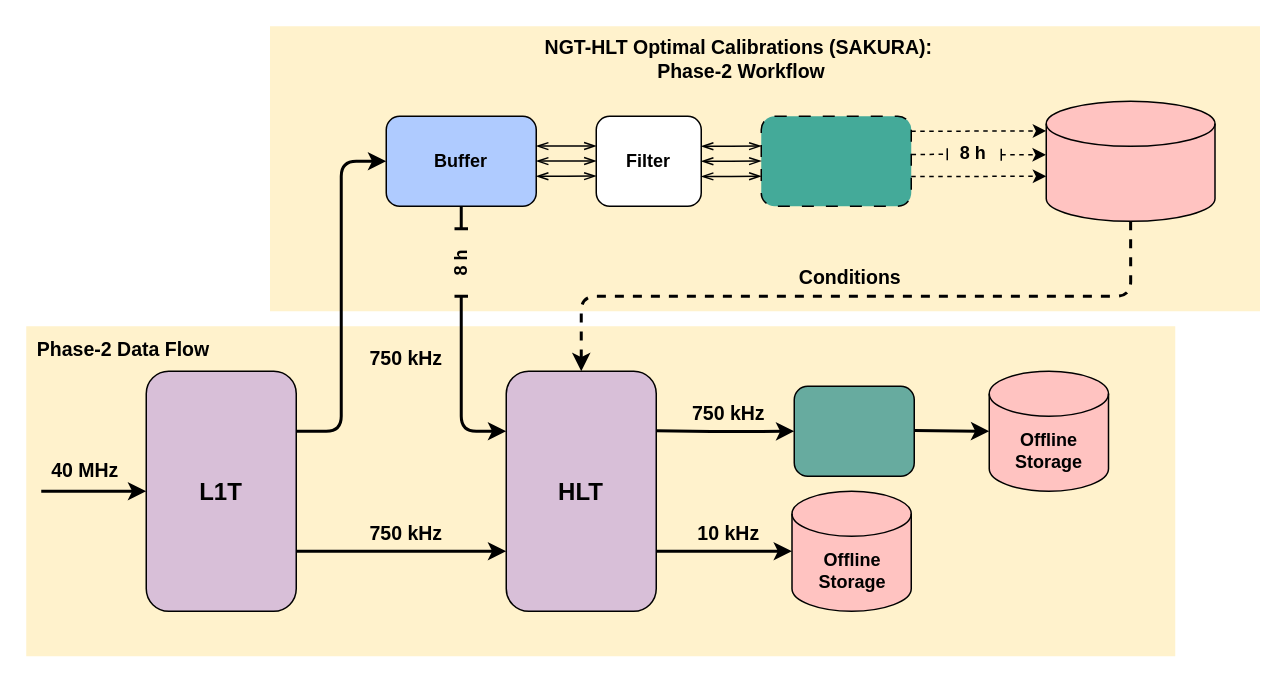
The diagram is 1286 pixels wide and 681 high, and some of its shapes have lost their labels. Each missing label, with the centre of its shape:
"Calibration Algorithms" belongs at pixel 835 160.
"Conditions Storage" belongs at pixel 1130 160.
"Scouting- like" belongs at pixel 853 430.
